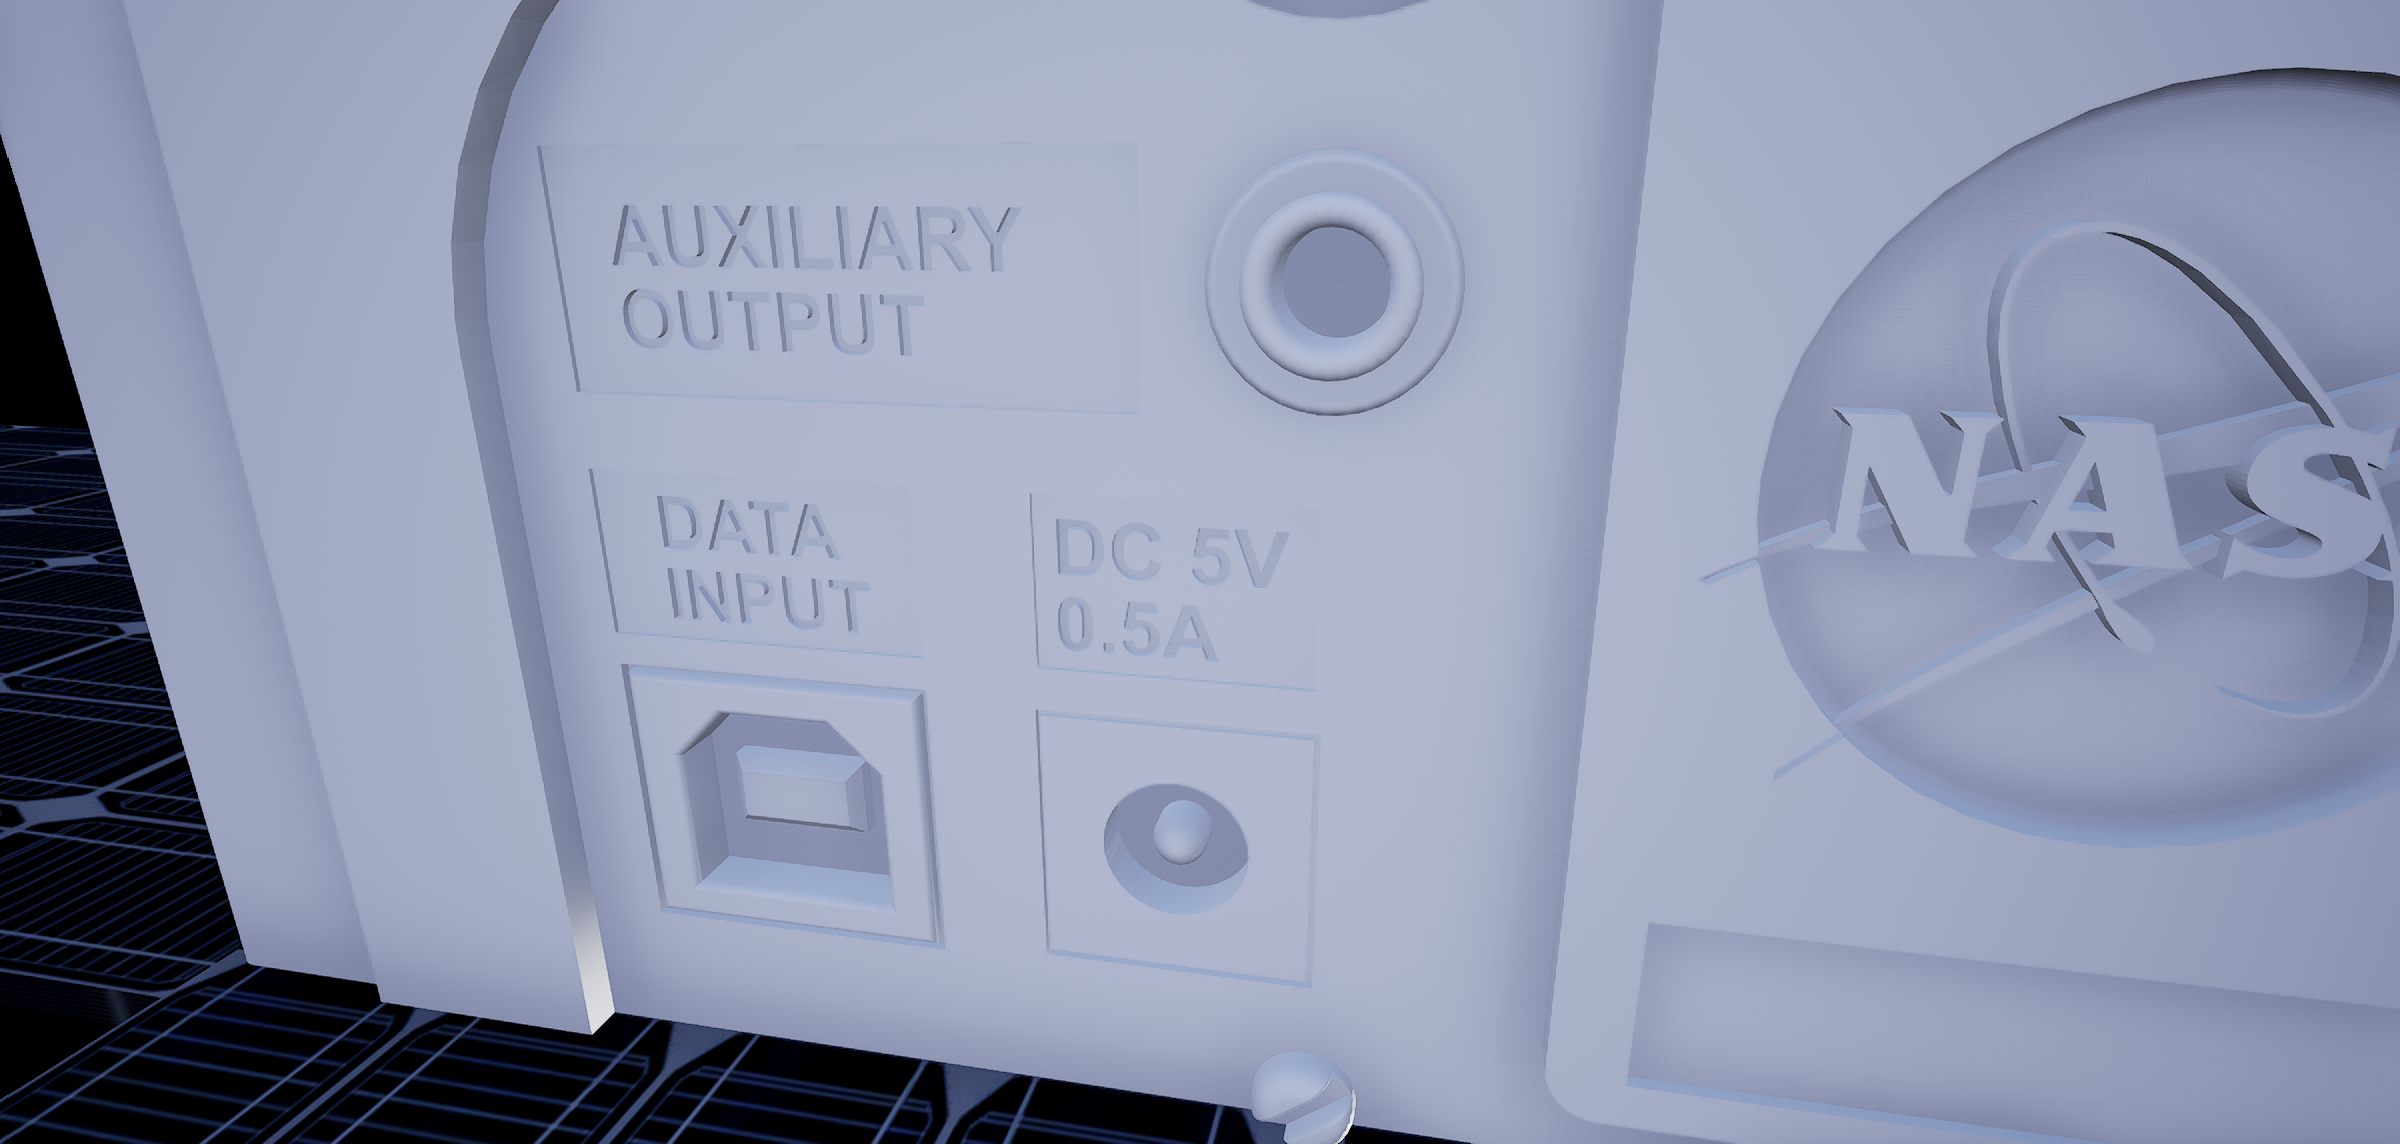aux: (1192, 133, 1472, 436)
dc: (1087, 767, 1264, 936)
usb: (670, 695, 902, 931)
